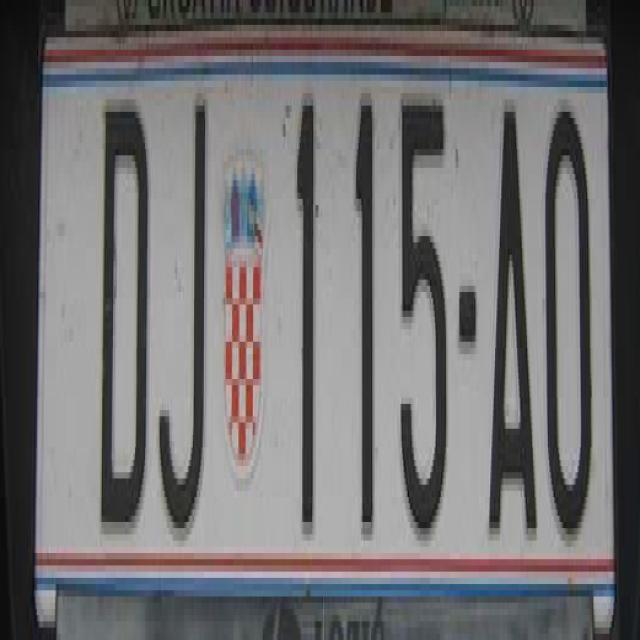Autre: (33, 41, 612, 593)
